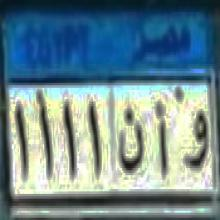1: (82, 95, 106, 177), (13, 101, 33, 183), (36, 90, 54, 178), (60, 97, 78, 178)
alif: (153, 91, 170, 180)
noon: (118, 104, 145, 175)
waw: (183, 98, 210, 176)
